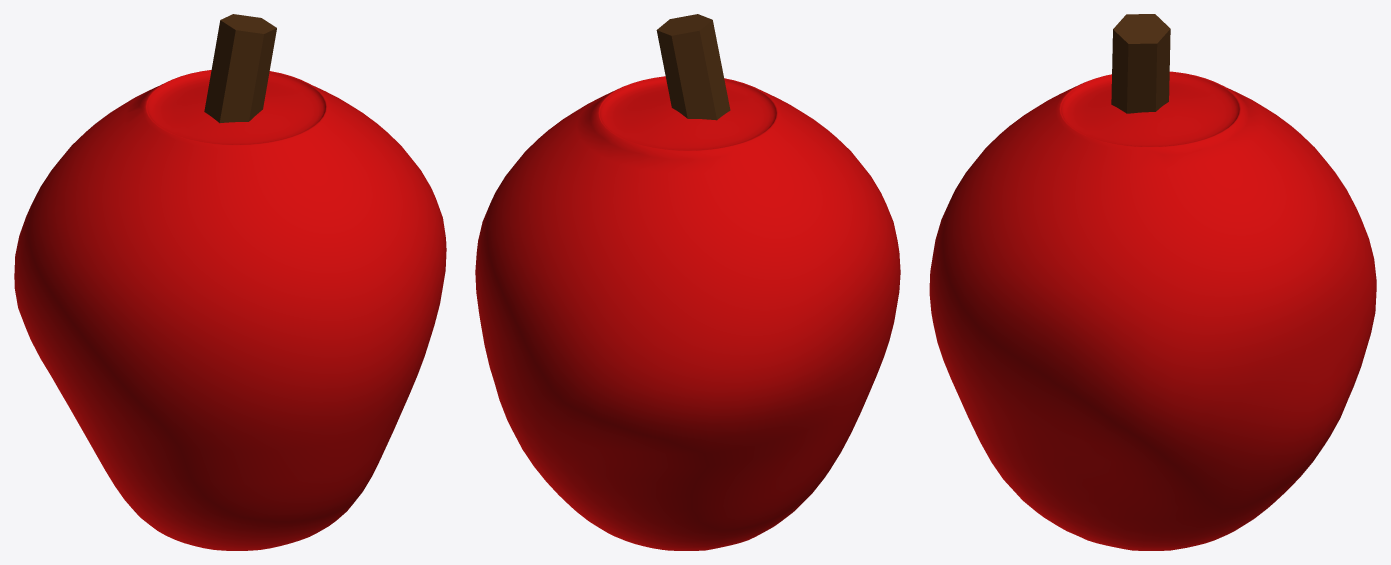
The model's file is apple.fbx.
3 renders of one model, left to right at view 1: azimuth 30°, elevation 25°; view 2: azimuth 150°, elevation 25°; view 3: azimuth 270°, elevation 25°, orthographic.
Visible parts, largest first — view 1: a, Cylinder; view 2: a, Cylinder; view 3: a, Cylinder.
Part boxes in pixels (x1,y1,x2,y2): a: [14, 70, 446, 550]; Cylinder: [135, 14, 276, 511]; a: [475, 76, 900, 550]; Cylinder: [656, 14, 793, 509]; a: [929, 71, 1376, 550]; Cylinder: [1111, 14, 1170, 113].
Size of the model in its own units: 175 by 230 by 182.
